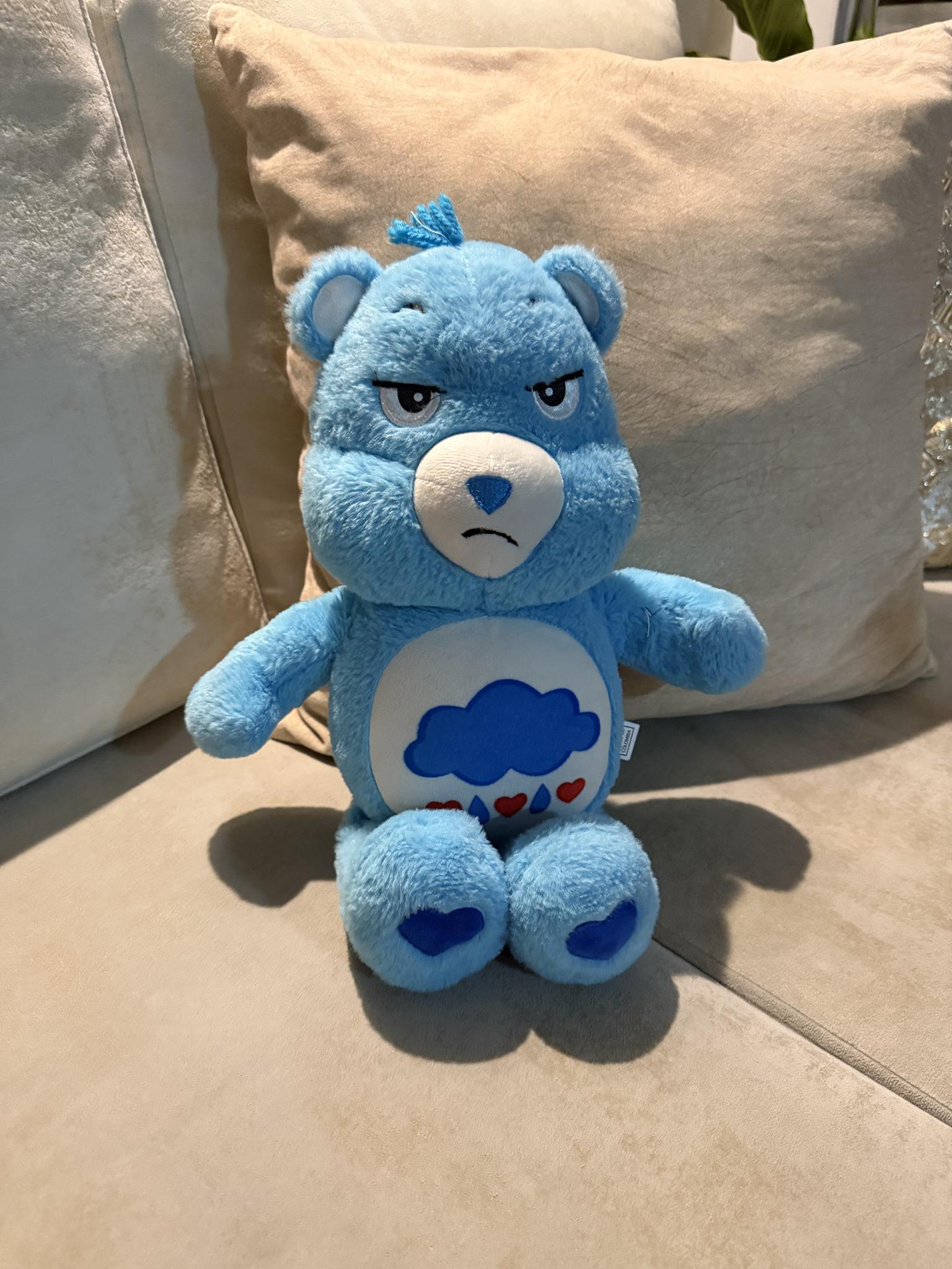peluche_Juan Jose: (187, 211, 773, 1000)
